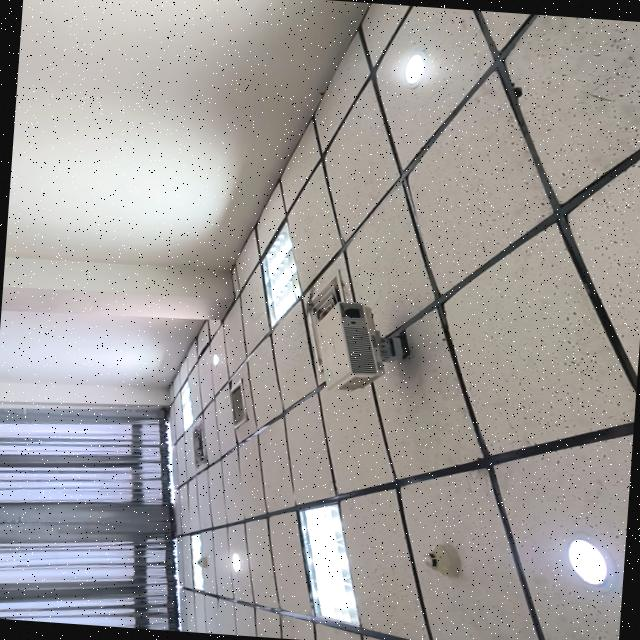Light: (298, 504, 359, 625), (261, 223, 300, 326), (567, 539, 605, 585), (189, 535, 203, 590), (180, 383, 193, 431), (404, 53, 424, 84), (231, 553, 239, 571), (211, 353, 219, 366)
Projector: (313, 301, 383, 391)
